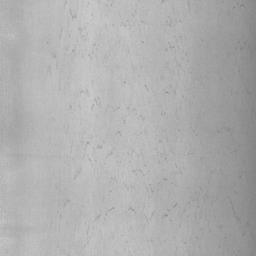Silk spot: (244, 42, 256, 59), (69, 8, 77, 21), (250, 23, 256, 40), (251, 232, 256, 248)
